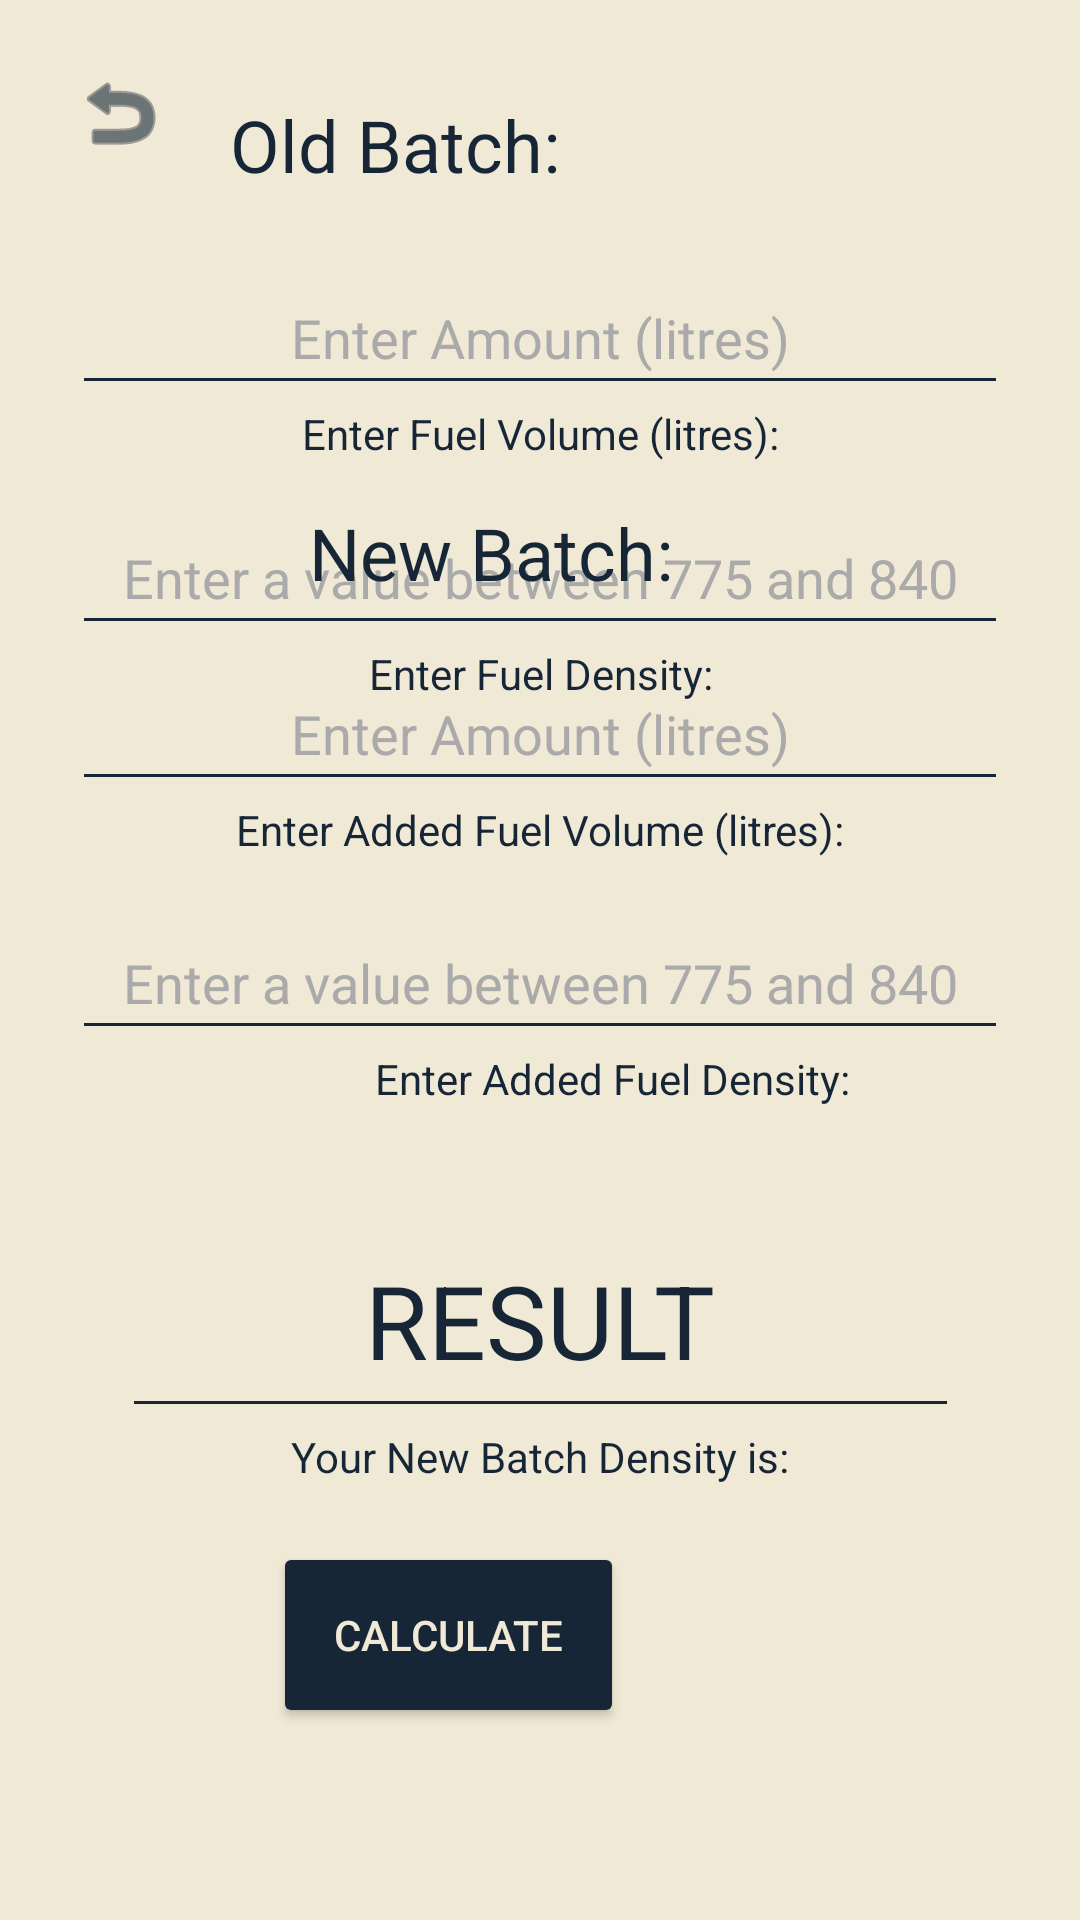

Where icons sit on this 1080 x 1920 app screen, as (x1, y1, x2, y2):
Return From Batch to Menu: (87, 82, 156, 145)
